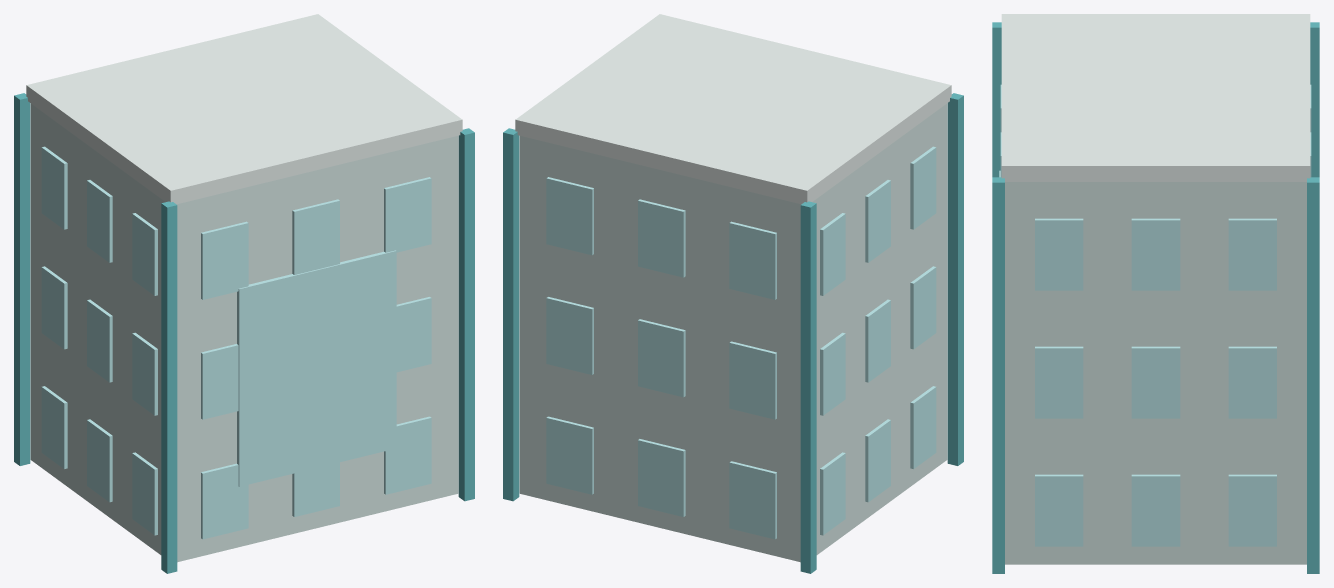
The model's file is residential_b.glb.
3 renders of one model, left to right at view 1: azimuth 30°, elevation 25°; view 2: azimuth 150°, elevation 25°; view 3: azimuth 270°, elevation 25°, orthographic. The views are drawn at different scales.
Size of the model in its own units: 7.53 by 8.84 by 6.49.
